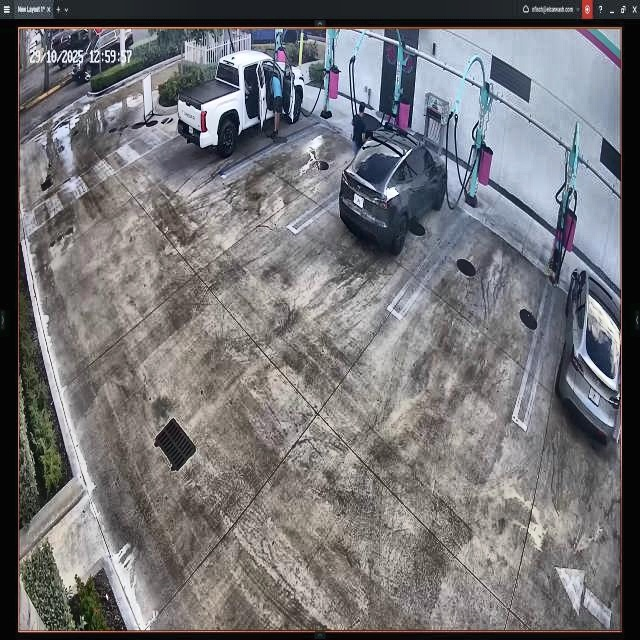Car: (338, 129, 449, 254), (178, 52, 303, 153)
